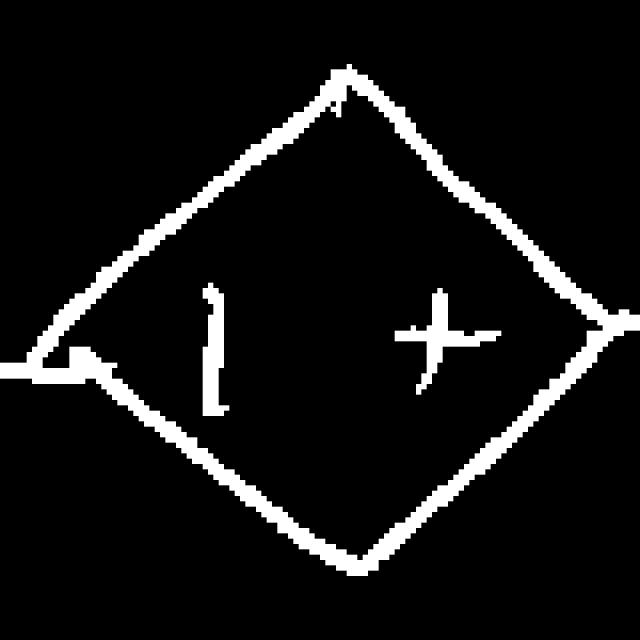dependant_voltage: (22, 65, 608, 577)
